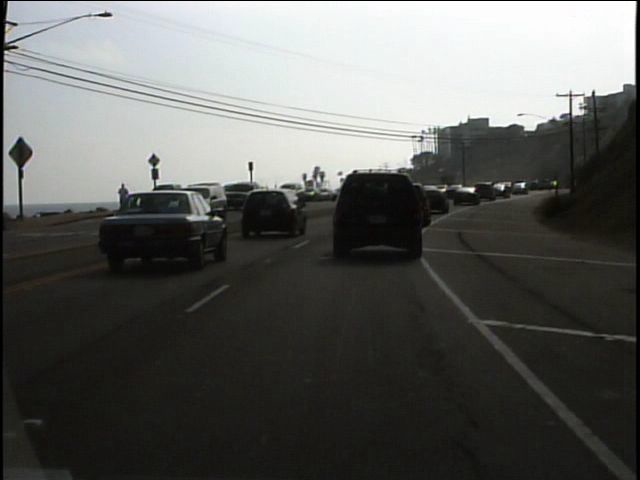person: (116, 180, 133, 215)
